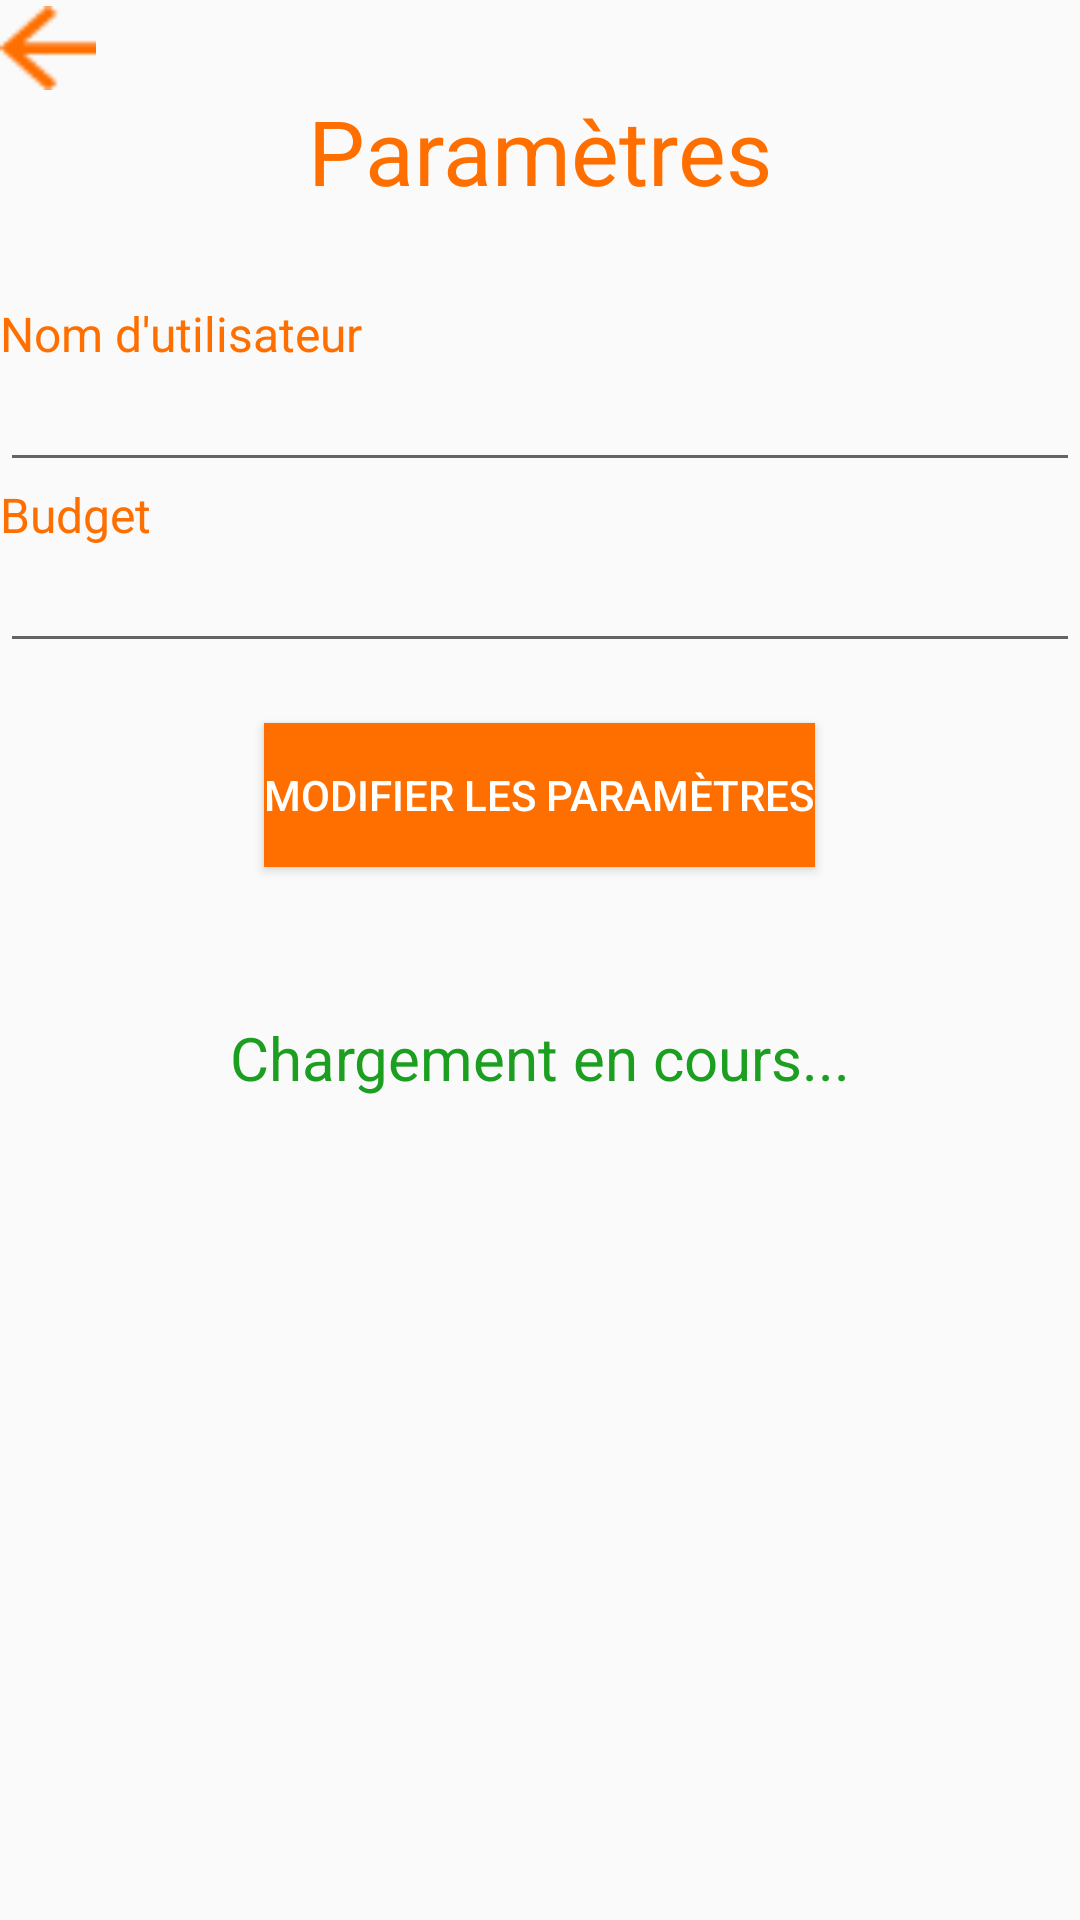

Locate icon controls on the screen. Image size 1080w x 1920h, boxes as (x1, y1, x2, y2).
backward arrow: (0, 6, 96, 90)
